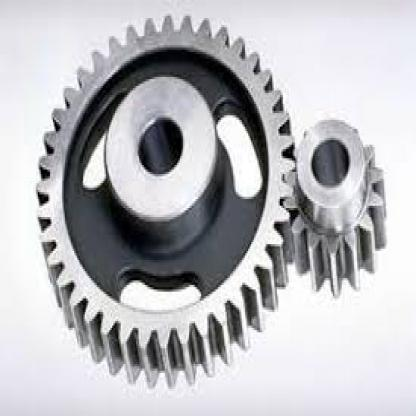FOD: (27, 10, 292, 379), (284, 107, 392, 295)
